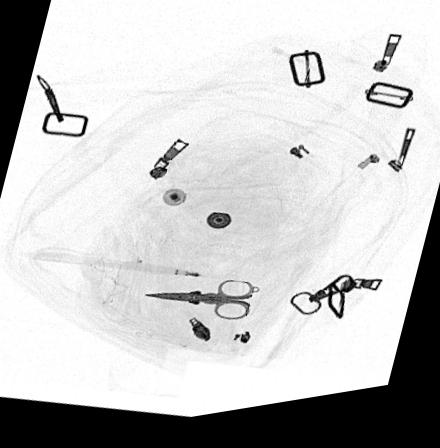Scissors: (141, 286, 255, 328)
